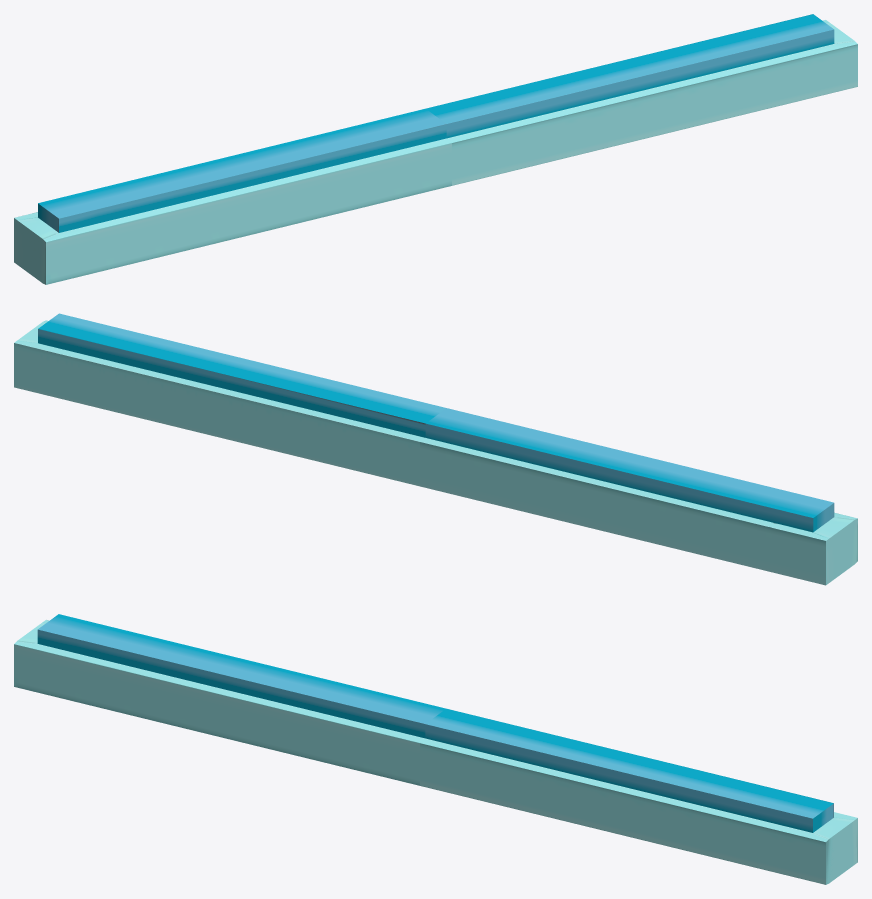
Rendered from Gem_open_heroPower_active.fbx.
3 renders of one model, top to bottom at view 1: azimuth 30°, elevation 25°; view 2: azimuth 150°, elevation 25°; view 3: azimuth 330°, elevation 25°, orthographic.
Visible parts, largest first — view 1: open_gem; view 2: open_gem; view 3: open_gem.
Boxes of the visible parts, x1,y1,x2,y2 form: open_gem: (14,14,857,284); open_gem: (14,313,857,585); open_gem: (14,614,857,884).
Bounding box in the file's own units: 1.74 × 0.1204 × 0.1191.
